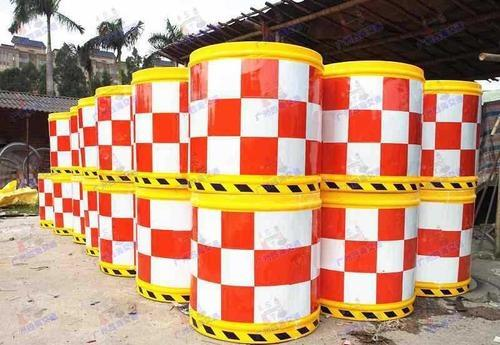cone_barrel: (185, 38, 322, 197), (188, 194, 319, 340), (324, 59, 421, 189), (321, 190, 416, 319), (422, 78, 483, 191), (130, 65, 186, 187), (135, 185, 189, 304), (415, 190, 474, 296), (96, 181, 133, 274), (94, 84, 130, 179), (75, 174, 96, 256), (73, 97, 95, 174), (47, 110, 72, 171), (54, 171, 73, 235), (37, 171, 52, 227)
